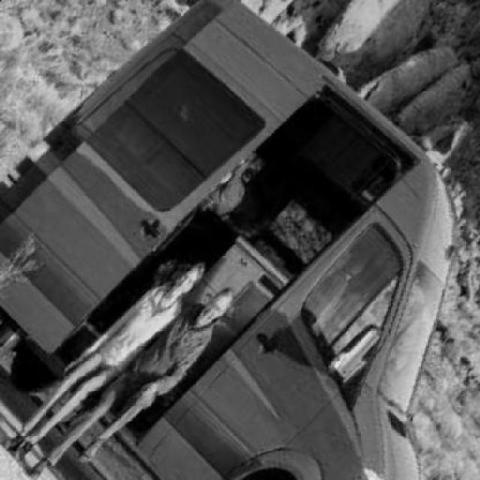van: (4, 0, 455, 480)
